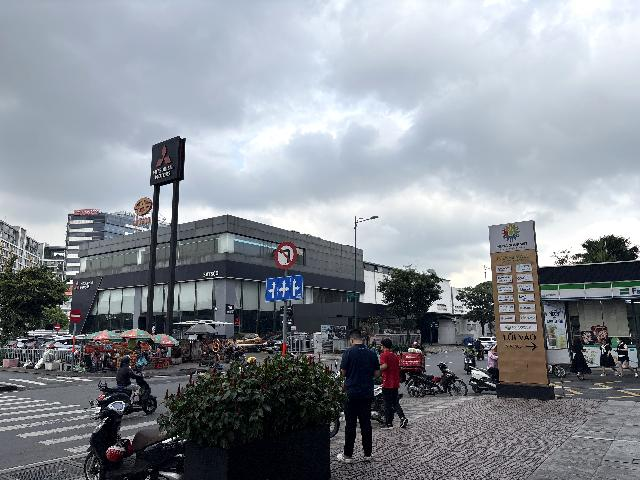cam-di-nguoc-chieu: (69, 309, 82, 323)
cam-re-trai: (274, 241, 297, 269)
